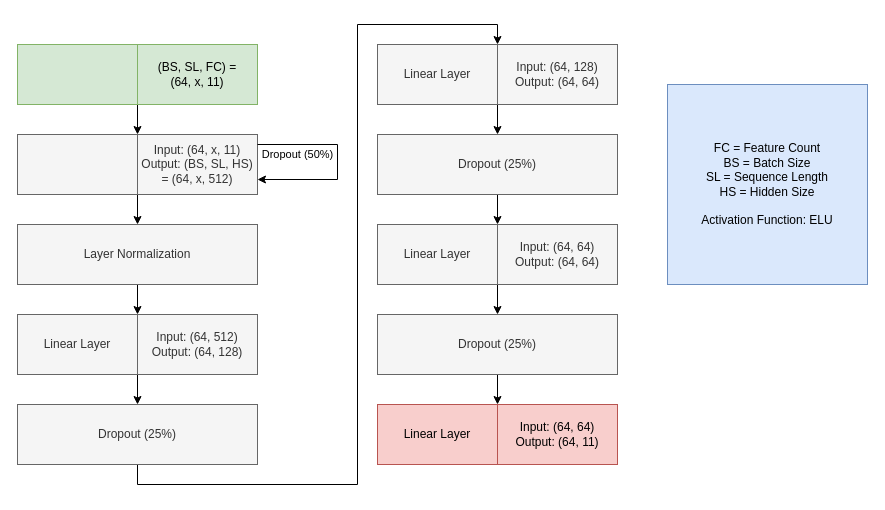
Image size: 885x510. Some labels were removed from this diagram. The shapes that lost their labels are listed below. From the top down, each one's box as (x1, y1, x2, y2) in pixels, then its label:
(16, 44, 138, 104): Input Layer
(16, 134, 138, 194): LSTM
